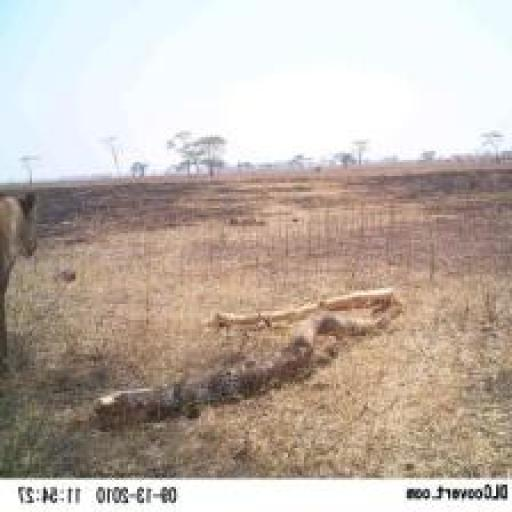lion: (0, 171, 46, 398)
